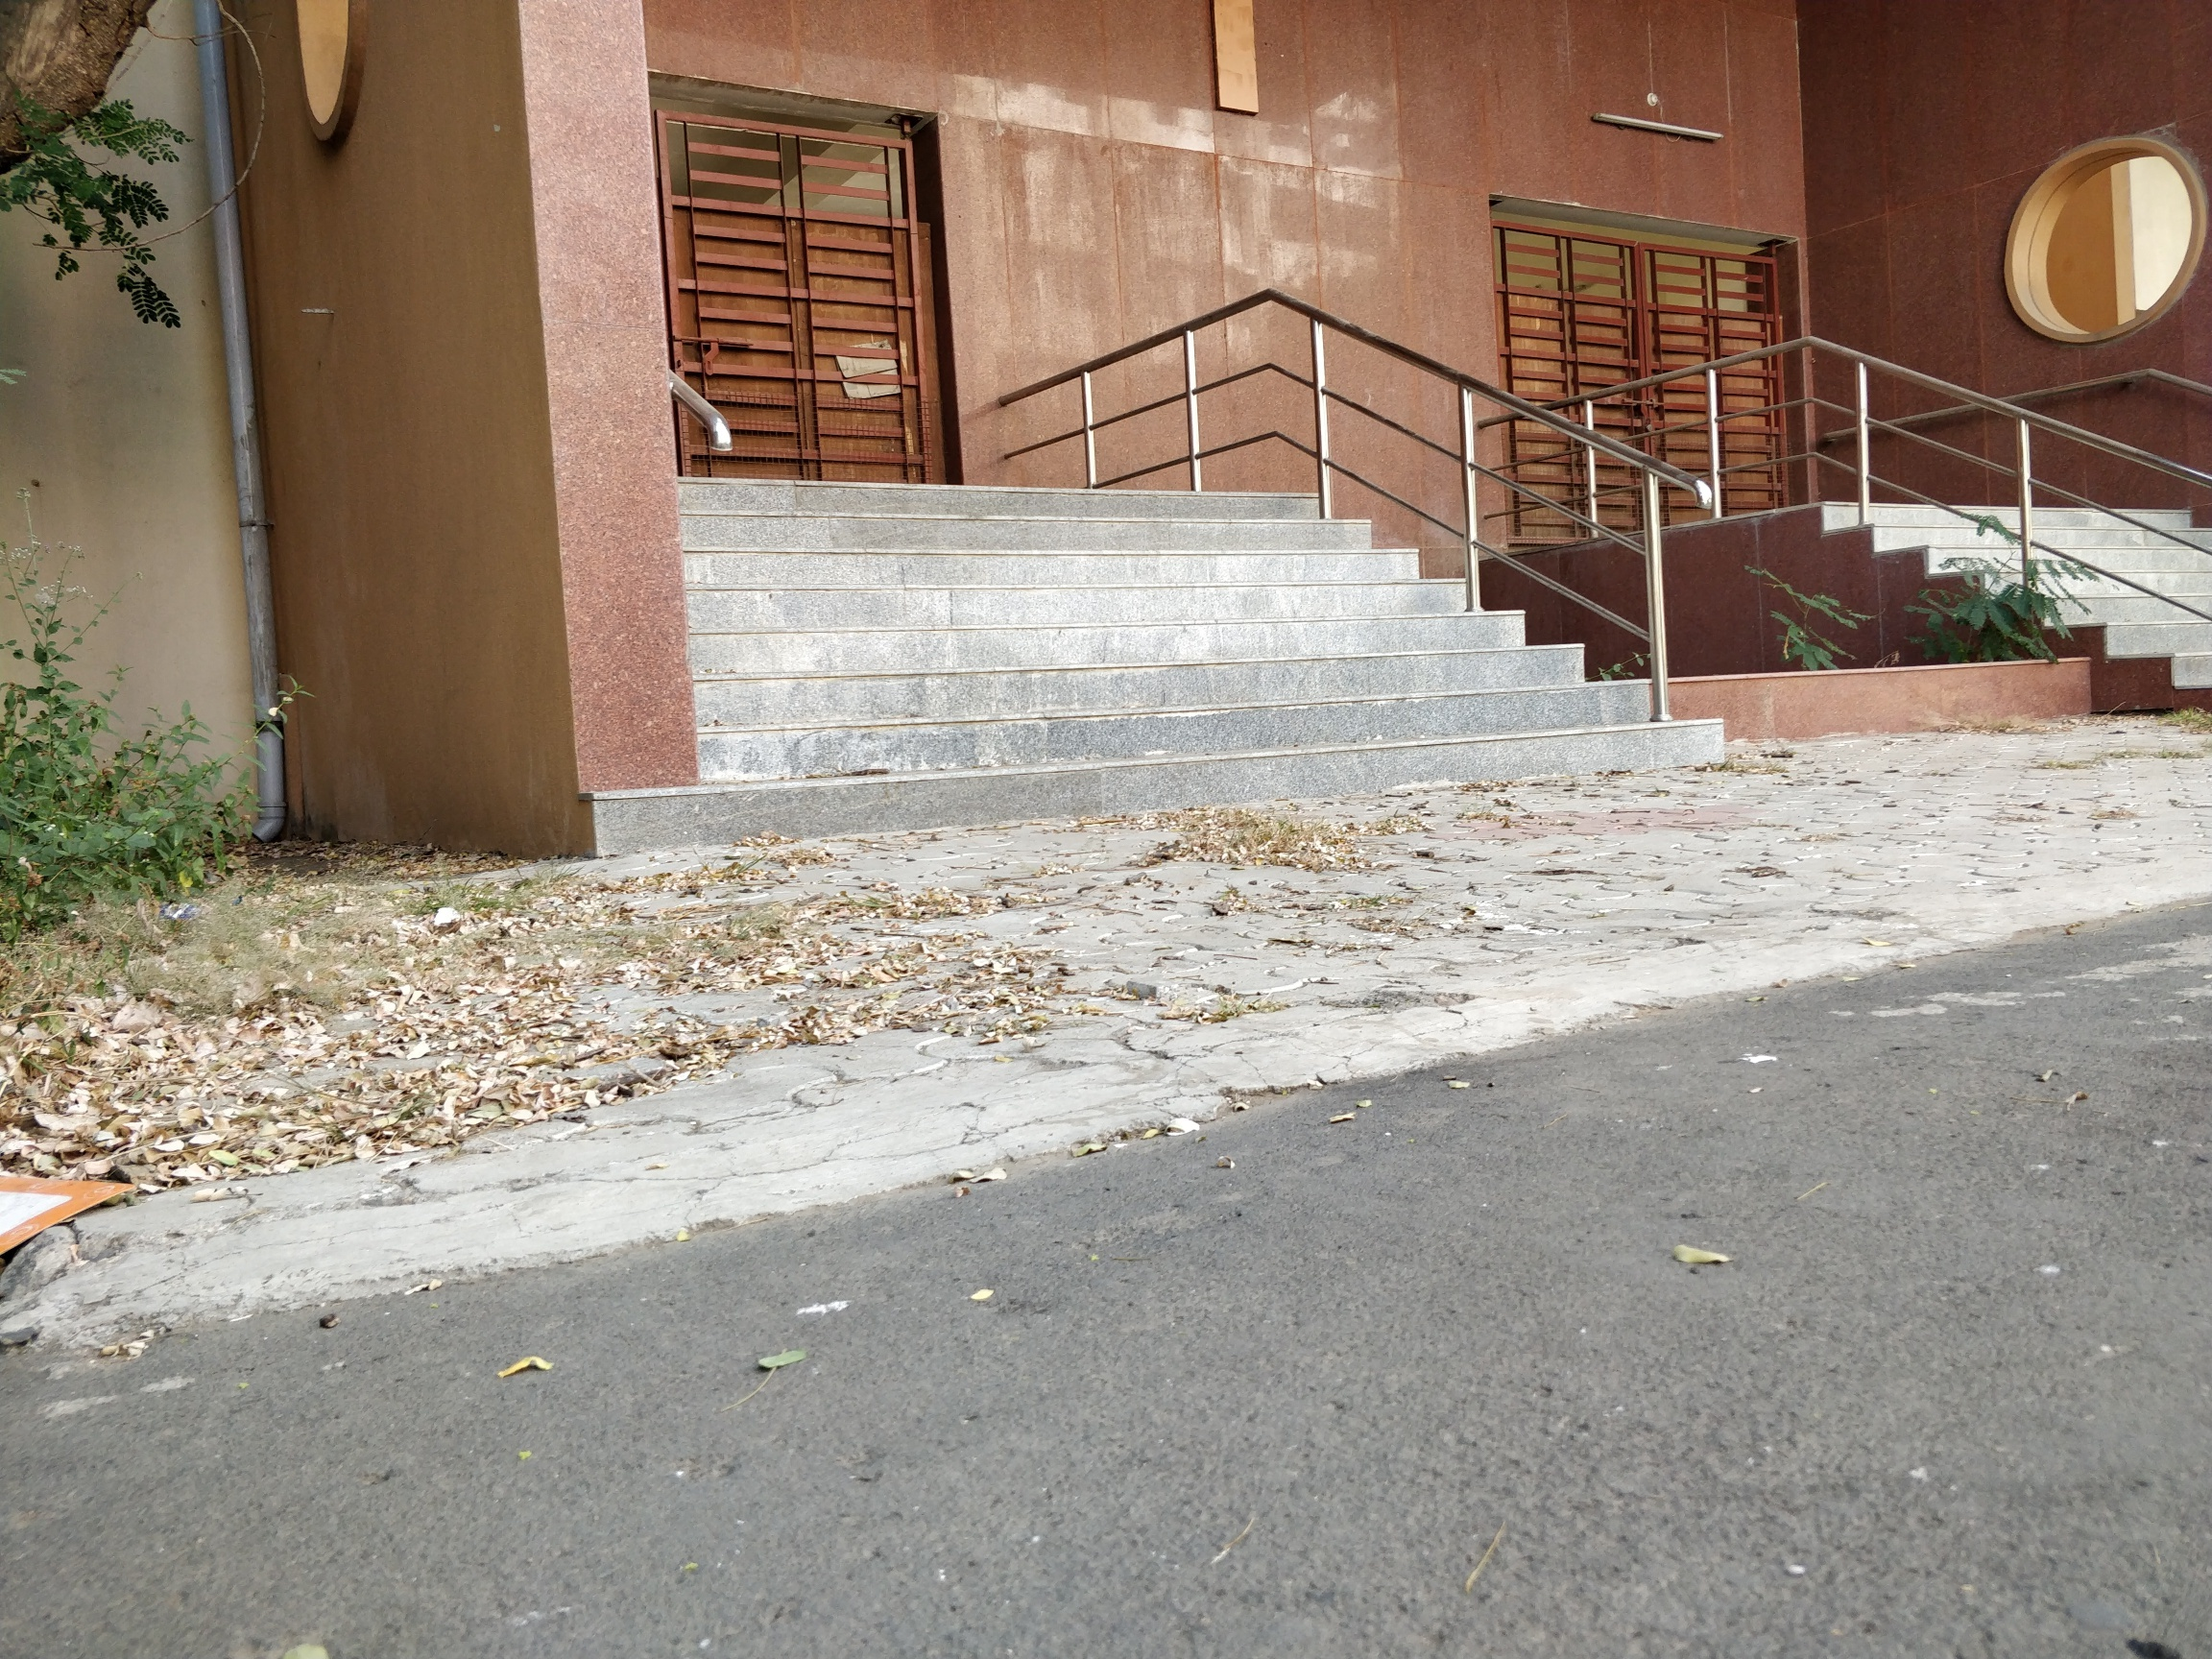stairs_up: (681, 479, 1686, 824)
